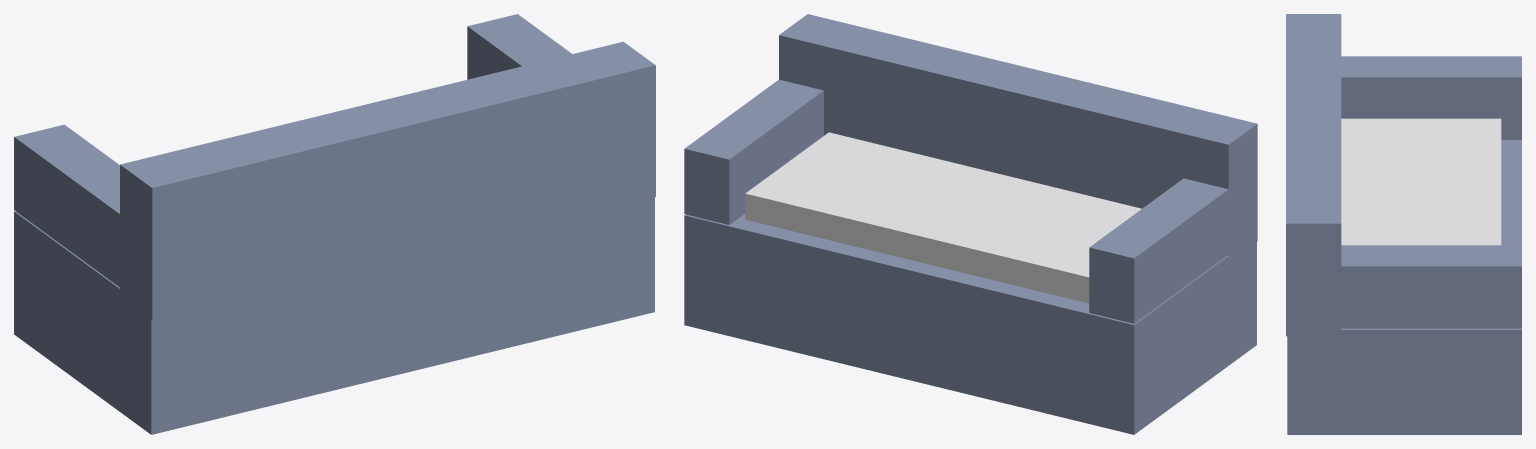
The model's file is Sofa.fbx.
3 views of the same model, side by side, from view 1: azimuth 30°, elevation 25°; view 2: azimuth 150°, elevation 25°; view 3: azimuth 270°, elevation 25° (orthographic). The views are drawn at different scales.
Visible parts, largest first — view 1: Sofa_Mesh; view 2: Sofa_Mesh; view 3: Sofa_Mesh.
Part boxes in pixels (bbox=[...]): Sofa_Mesh: bbox=[14, 14, 655, 434]; Sofa_Mesh: bbox=[684, 14, 1257, 434]; Sofa_Mesh: bbox=[1286, 14, 1521, 434].
Bounding box in the file's own units: 1.8 × 0.855 × 0.845.
